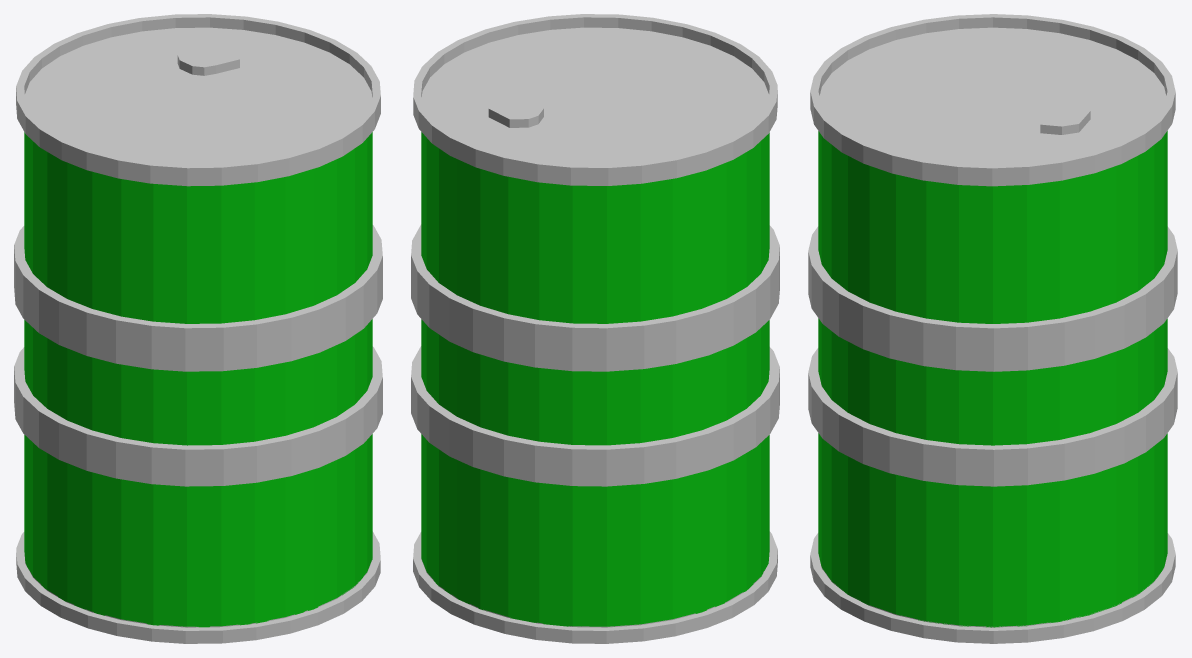
Rendered from ドラム缶 緑.fbx.
The picture shows the model from 3 angles, left to right: view 1: azimuth 30°, elevation 25°; view 2: azimuth 150°, elevation 25°; view 3: azimuth 270°, elevation 25°; orthographic projection.
Parts seen in each view (by area): view 1: Cylinder; view 2: Cylinder; view 3: Cylinder.
Part boxes in pixels (box(x1,y1,x2,y2)): Cylinder: box(14, 14, 382, 643); Cylinder: box(411, 14, 779, 643); Cylinder: box(808, 14, 1177, 643).
Size of the model in its own units: 212 by 301 by 212.
